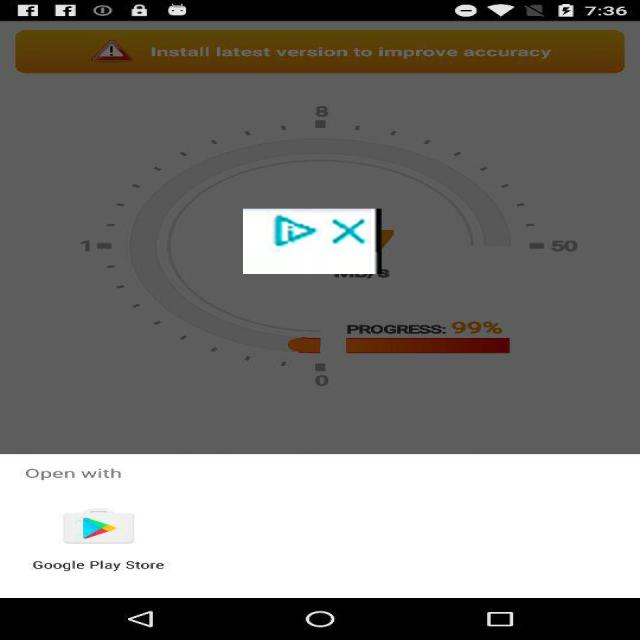sneaking: (243, 209, 382, 274)
